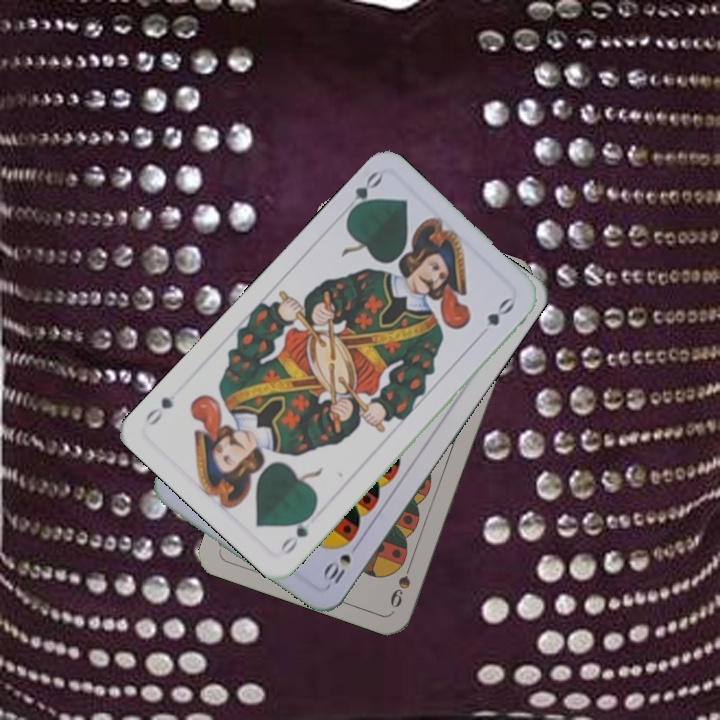GO: (343, 167, 385, 220), (276, 507, 317, 557)
S10: (319, 537, 363, 590)
S9: (386, 554, 416, 611)
